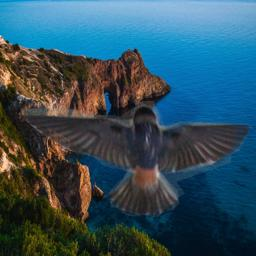Swallow: (15, 101, 255, 217)
